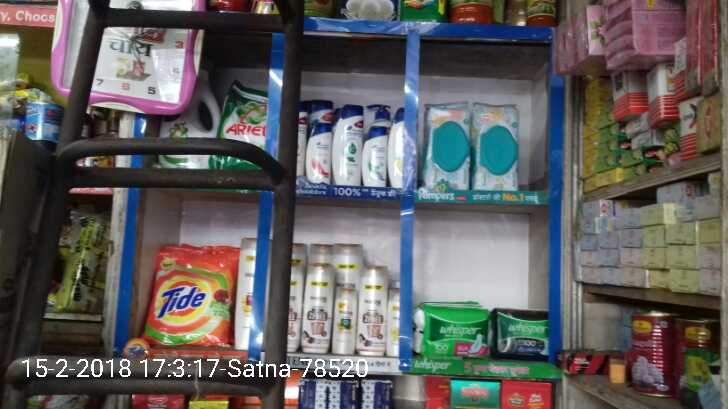beauty: (330, 100, 363, 184), (358, 265, 387, 355), (303, 265, 331, 352), (305, 121, 334, 186), (331, 284, 355, 356), (362, 121, 387, 190)
home: (140, 244, 233, 347), (216, 83, 266, 172)
pharmacy: (414, 297, 490, 359), (489, 302, 555, 361)
